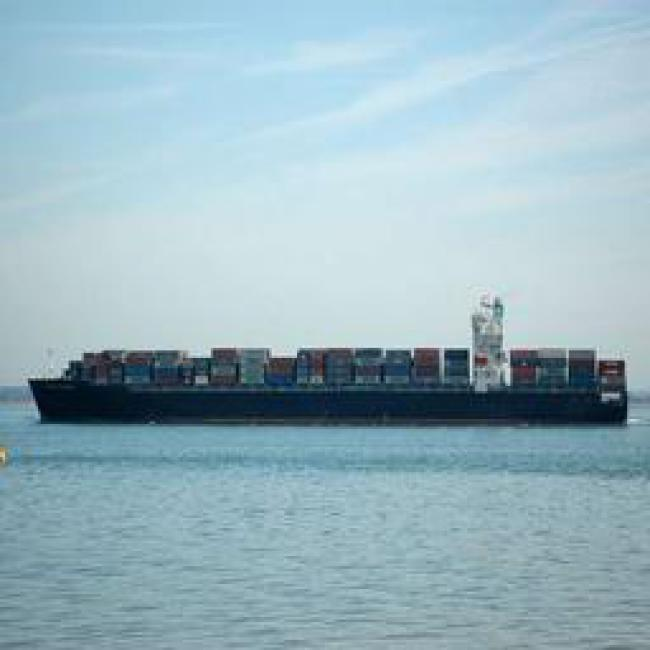Ship: (26, 336, 646, 440)
